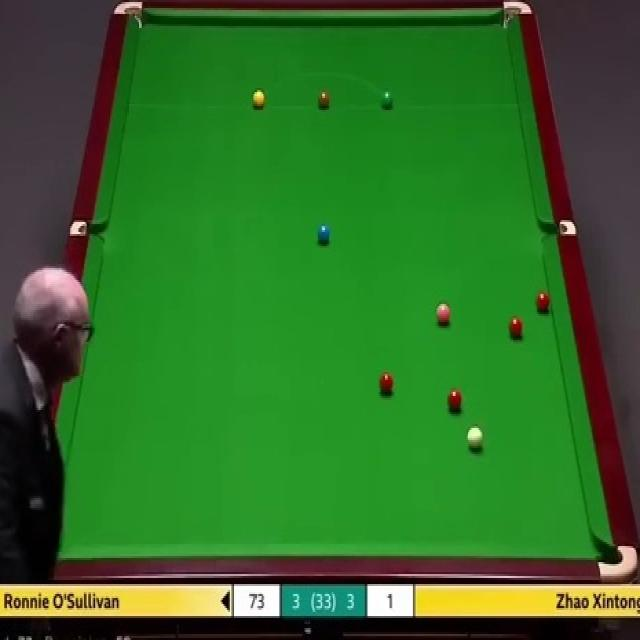pocket: (597, 540, 637, 583), (501, 0, 530, 32), (113, 0, 143, 28), (69, 220, 107, 237), (540, 220, 574, 235)
